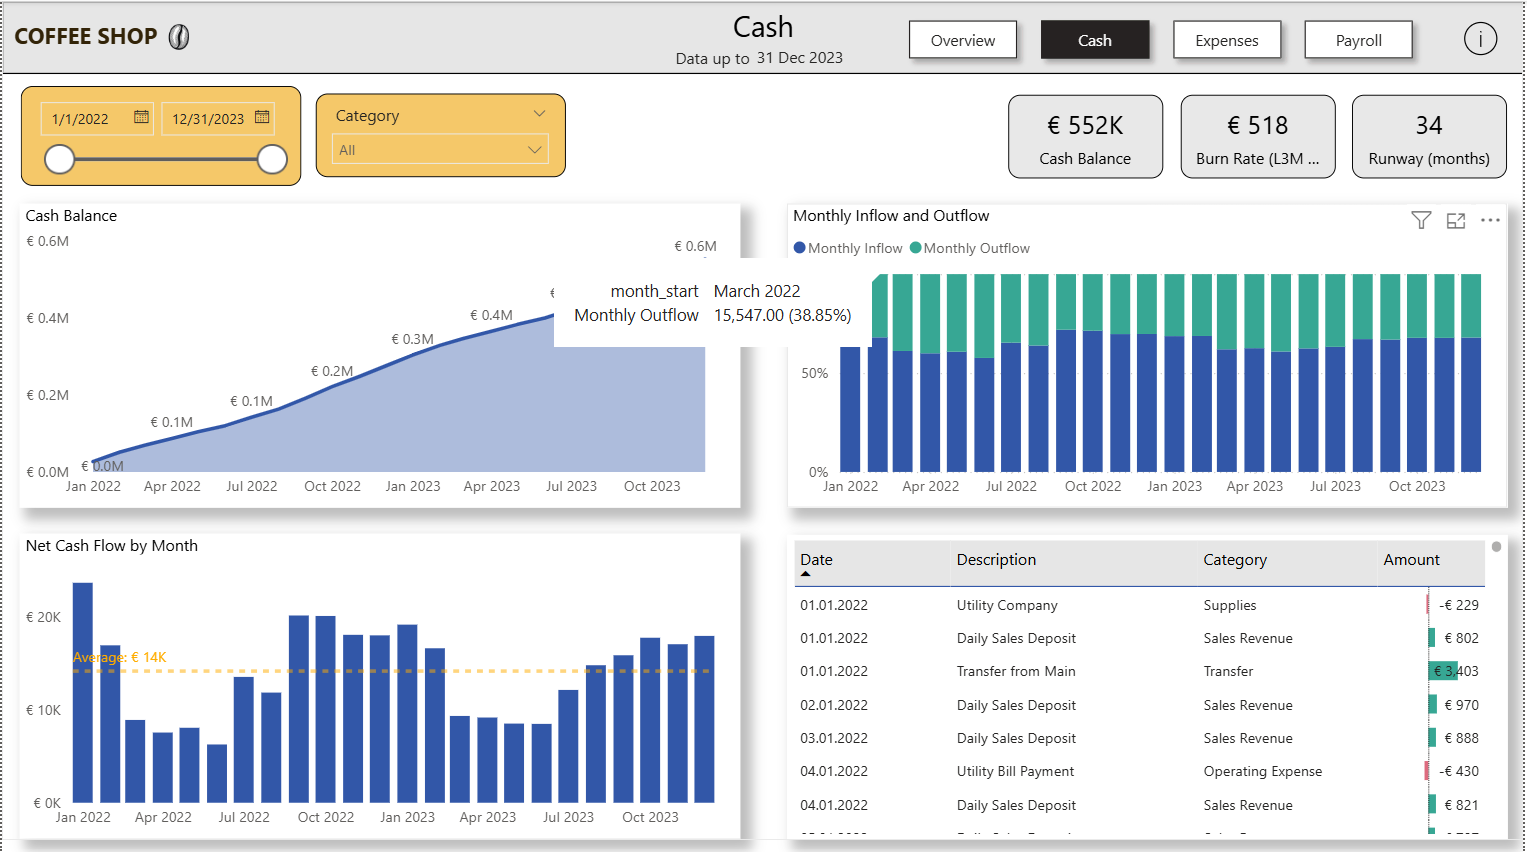

Layout of this report page (visuals, bound fields, positions):
{"tool":"powerbi","page":{"name":"Cash","canvas":[1280,720],"ordinal":1},"visuals":[{"type":"shape","box":[0,0,1280,61.4],"z":0,"group":"g2"},{"type":"group","id":"g1","title":"Group 2","box":[5.7,7.1,195.5,48.6],"z":0,"group":"g3"},{"type":"textbox","box":[5.7,11.6,152.9,35.7],"z":0,"group":"g1"},{"type":"card","fields":{"Values":["_Measurements.Latest Date"]},"box":[621.5,34.7,100,24.3],"z":0,"group":"g4"},{"type":"group","id":"g2","title":"Cash main page","box":[0,0,1280,705],"z":1000},{"type":"image","box":[98.4,7.1,102.9,48.6],"z":1000,"group":"g1"},{"type":"textbox","box":[561.5,33.3,82.9,30],"z":1000,"group":"g4"},{"type":"card","fields":{"Values":["_Measurements.Cash Balance"]},"box":[846,78.6,130,70],"z":1000,"group":"g2"},{"type":"card","fields":{"Values":["_Measurements.Burn Rate (L3M Avg)"]},"box":[991,78.6,130,70],"z":2000,"group":"g2"},{"type":"pageNavigator","box":[754.3,7.7,443.9,50],"z":2500},{"type":"card","fields":{"Values":["_Measurements.Runway (months)"]},"box":[1136,78.6,130.4,70],"z":3000,"group":"g2"},{"type":"group","id":"g3","title":"Group 1","box":[5.7,7.1,195.7,48.6],"z":4000,"group":"g2"},{"type":"textbox","box":[397.1,0,485.7,47.1],"z":5000,"group":"g2"},{"type":"group","id":"g4","title":"Group 3","box":[561.5,33.3,160,30],"z":6000,"group":"g2"},{"type":"slicer","fields":{"Values":["analytics dim_calendar.date"]},"box":[16,72,236,84],"z":7000,"group":"g2"},{"type":"actionButton","box":[1223.8,11.2,42.5,40],"z":8000,"group":"g2"},{"type":"areaChart","title":"Cash Balance","fields":{"Category":["DimMonth.month_start"],"Y":["_Measurements.Cash Balance"]},"box":[15,170,606,256],"z":9000,"group":"g2"},{"type":"hundredPercentStackedColumnChart","title":"Monthly Inflow and Outflow","fields":{"Category":["DimMonth.month_start"],"Y":["_Measurements.Monthly Inflow","_Measurements.Monthly Outflow"]},"box":[660,170,606,256],"z":10000,"group":"g2"},{"type":"tableEx","fields":{"Values":["analytics v_fact_cash_txn.txn_date","analytics v_fact_cash_txn.description","analytics v_fact_cash_txn.category","analytics v_fact_cash_txn.amount"]},"box":[660,448.8,606.2,256.2],"z":11000,"group":"g2"},{"type":"columnChart","title":"Net Cash Flow by Month","fields":{"Category":["DimMonth.month_start"],"Y":["_Measurements.Monthly Net Cash Flow (txn)"]},"box":[15,448.3,606.7,256.7],"z":12000,"group":"g2"},{"type":"slicer","title":"Category","fields":{"Values":["analytics v_fact_cash_txn.category"]},"box":[264,78,210,70],"z":13000,"group":"g2"}]}

Visuals, with their boxes in screenshot pixels (x1, y1, x2, y2), scaled from the page's 1280x720 canvas onto the 1527x852 screenshot:
shape: BBox(0, 0, 1526, 73)
"Group 2" group: BBox(7, 8, 240, 66)
textbox: BBox(7, 14, 189, 56)
card - _Measurements.Latest Date: BBox(741, 41, 861, 70)
"Cash main page" group: BBox(0, 0, 1526, 834)
image: BBox(117, 8, 240, 66)
textbox: BBox(670, 39, 769, 75)
card - _Measurements.Cash Balance: BBox(1009, 93, 1164, 176)
card - _Measurements.Burn Rate (L3M Avg): BBox(1182, 93, 1337, 176)
pageNavigator: BBox(900, 9, 1429, 68)
card - _Measurements.Runway (months): BBox(1355, 93, 1511, 176)
"Group 1" group: BBox(7, 8, 240, 66)
textbox: BBox(474, 0, 1053, 56)
"Group 3" group: BBox(670, 39, 861, 75)
slicer - analytics dim_calendar.date: BBox(19, 85, 301, 185)
actionButton: BBox(1460, 13, 1511, 61)
"Cash Balance" areaChart: BBox(18, 201, 741, 504)
"Monthly Inflow and Outflow" hundredPercentStackedColumnChart: BBox(787, 201, 1510, 504)
tableEx - analytics v_fact_cash_txn.txn_date x analytics v_fact_cash_txn.description: BBox(787, 531, 1511, 834)
"Net Cash Flow by Month" columnChart: BBox(18, 530, 742, 834)
"Category" slicer: BBox(315, 92, 565, 175)
